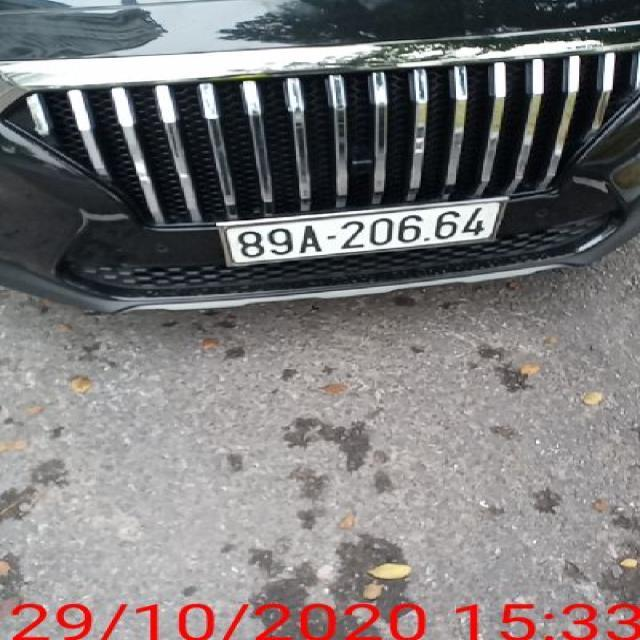bien_so_oto: (222, 196, 512, 267)
